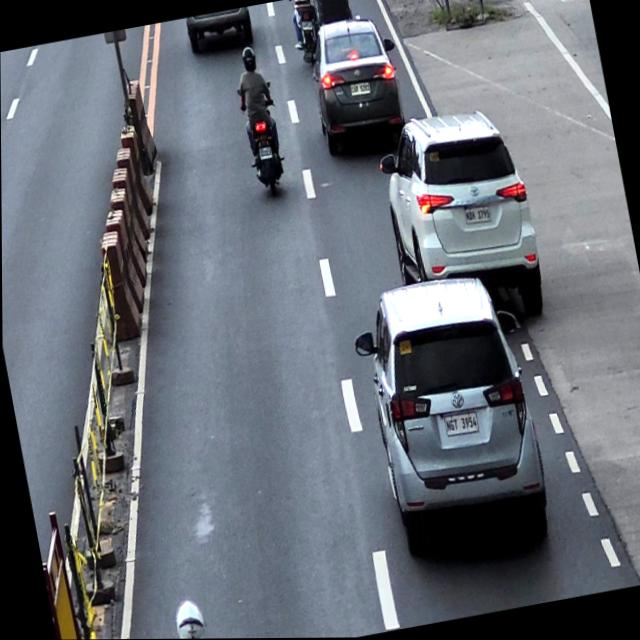Car: (343, 266, 557, 574), (372, 98, 550, 345), (297, 10, 413, 162), (184, 6, 254, 53)
License-Plate: (442, 409, 480, 438), (462, 204, 492, 227), (349, 81, 372, 96), (257, 146, 273, 160), (301, 19, 313, 31)
Motorcycle: (234, 80, 290, 196)
Tricycle: (295, 0, 359, 56)
